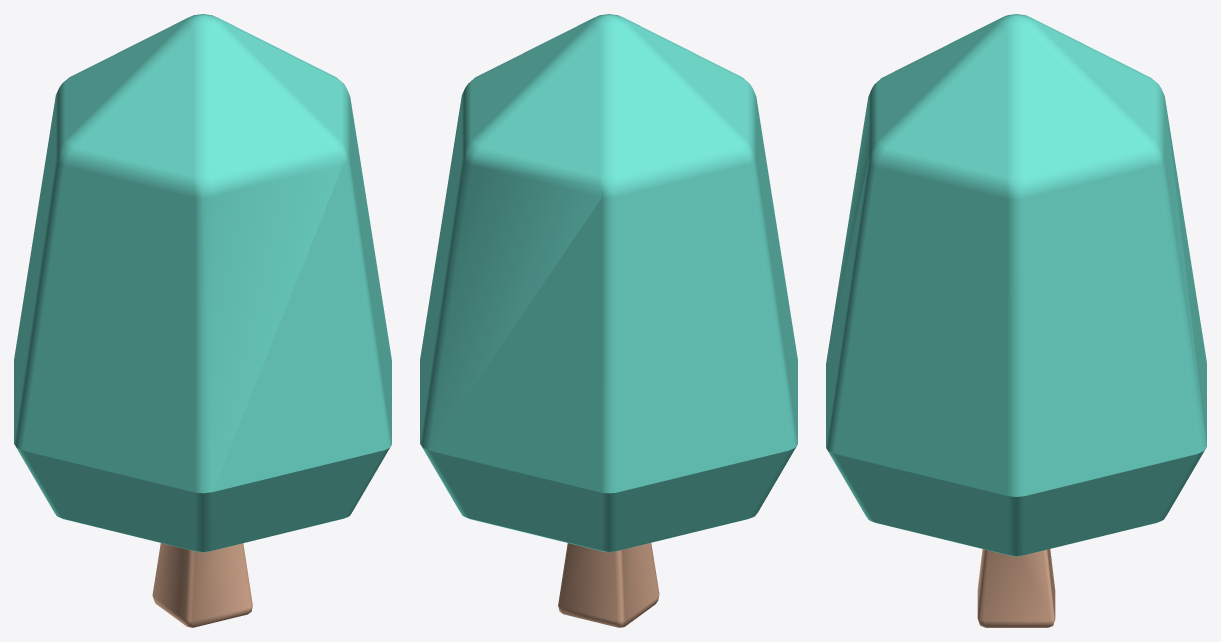
Rendered from tree_fat.glb.
The picture shows the model from 3 angles, left to right: view 1: azimuth 30°, elevation 25°; view 2: azimuth 150°, elevation 25°; view 3: azimuth 270°, elevation 25°; orthographic projection.
Visible parts, largest first — view 1: tree_fat; view 2: tree_fat; view 3: tree_fat.
Boxes of the visible parts, x1,y1,x2,y2 form: tree_fat: (14,14,391,627); tree_fat: (420,14,797,627); tree_fat: (826,14,1206,627).
Size of the model in its own units: 0.7449 by 1.14 by 0.6538.
